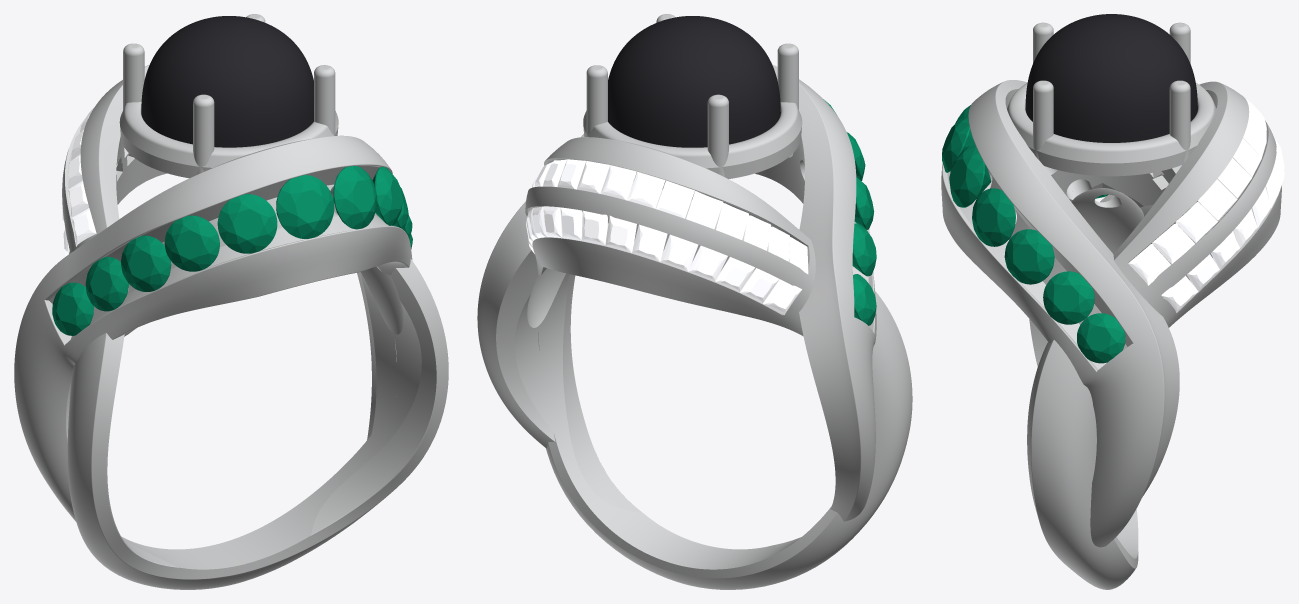
File: onyx-ring.glb
The picture shows the model from 3 angles, left to right: view 1: azimuth 30°, elevation 25°; view 2: azimuth 150°, elevation 25°; view 3: azimuth 270°, elevation 25°; orthographic projection. The views are drawn at different scales.
Visible parts, largest first — view 1: object 3, Gems, New_Obj, GG_Princese; view 2: object 3, New_Obj, GG_Princese, Gems; view 3: object 3, New_Obj, Gems, GG_Princese.
Boxes of the visible parts, box(x1,y1,x2,y2) form: object 3: box(14, 14, 448, 589); Gems: box(52, 166, 412, 335); New_Obj: box(141, 16, 313, 147); GG_Princese: box(62, 95, 103, 255); object 3: box(477, 14, 912, 589); New_Obj: box(608, 16, 780, 147); GG_Princese: box(526, 159, 808, 314); Gems: box(823, 99, 876, 325); object 3: box(941, 22, 1281, 589); New_Obj: box(1025, 14, 1197, 142); Gems: box(942, 105, 1125, 363); GG_Princese: box(1128, 99, 1284, 312).
Size of the model in its own units: 0.0206 by 0.0288 by 0.0164.
